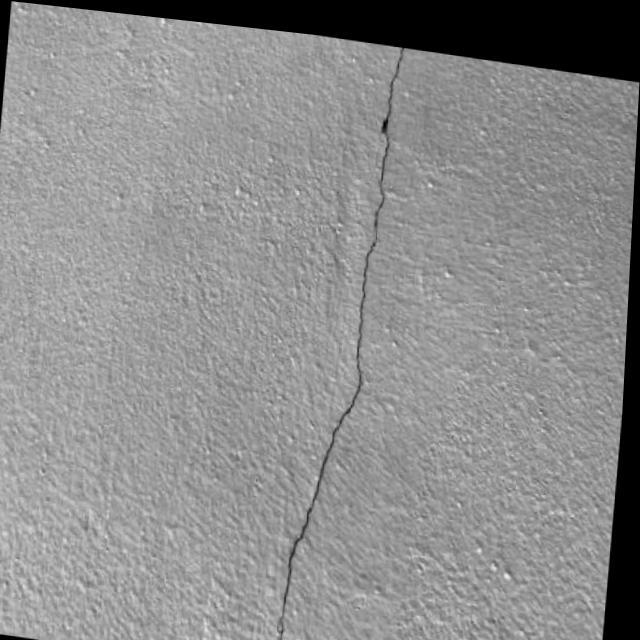Crack: (273, 62, 406, 639)
